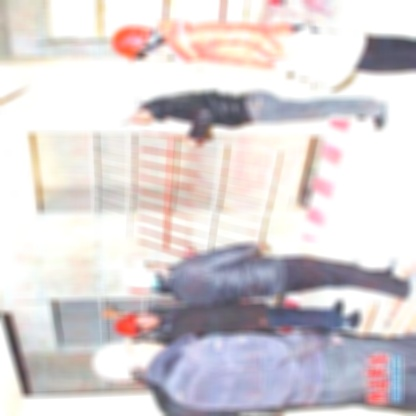red: (108, 20, 155, 63), (111, 306, 141, 336)
white: (91, 334, 136, 382), (116, 258, 157, 294), (107, 93, 142, 128)
